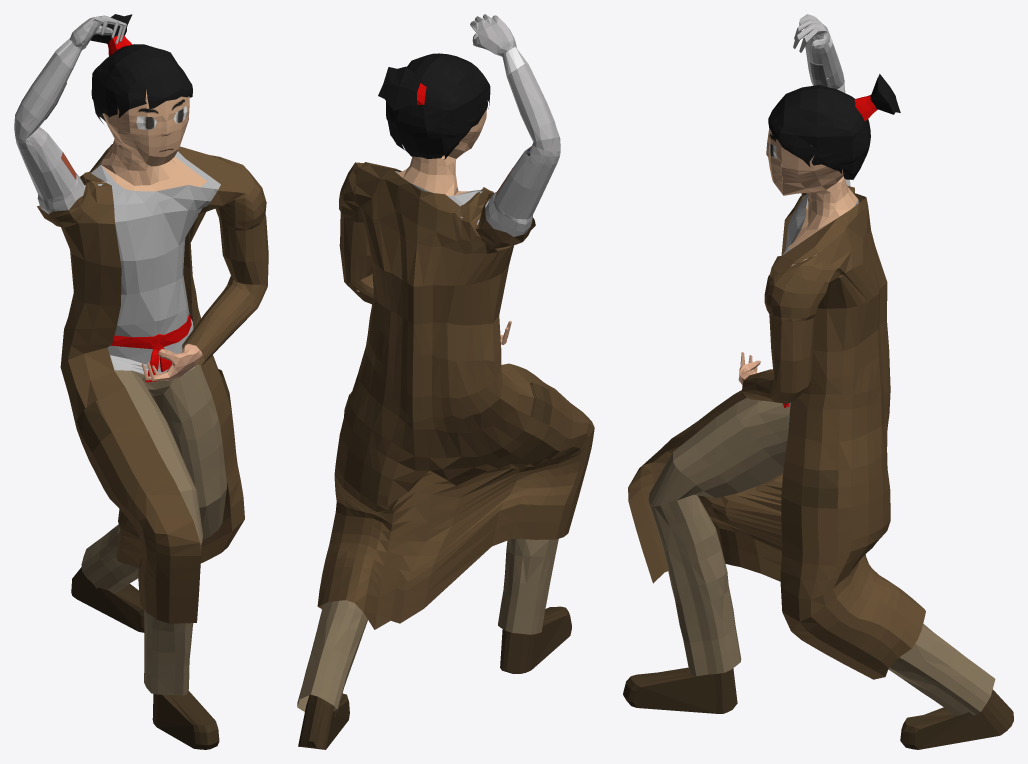
The model's file is Special_Attack_000021.obj.
3 renders of one model, left to right at view 1: azimuth 30°, elevation 25°; view 2: azimuth 150°, elevation 25°; view 3: azimuth 270°, elevation 25°, orthographic.
Visible parts, largest first — view 1: Hair_Cube.004; view 2: Hair_Cube.004; view 3: Hair_Cube.004.
Boxes of the visible parts, x1=… form: Hair_Cube.004: x1=14, y1=14, x2=268, y2=749; Hair_Cube.004: x1=297, y1=14, x2=594, y2=749; Hair_Cube.004: x1=623, y1=14, x2=1013, y2=749.
Bounding box in the file's own units: 1.32 × 3.73 × 1.94.
